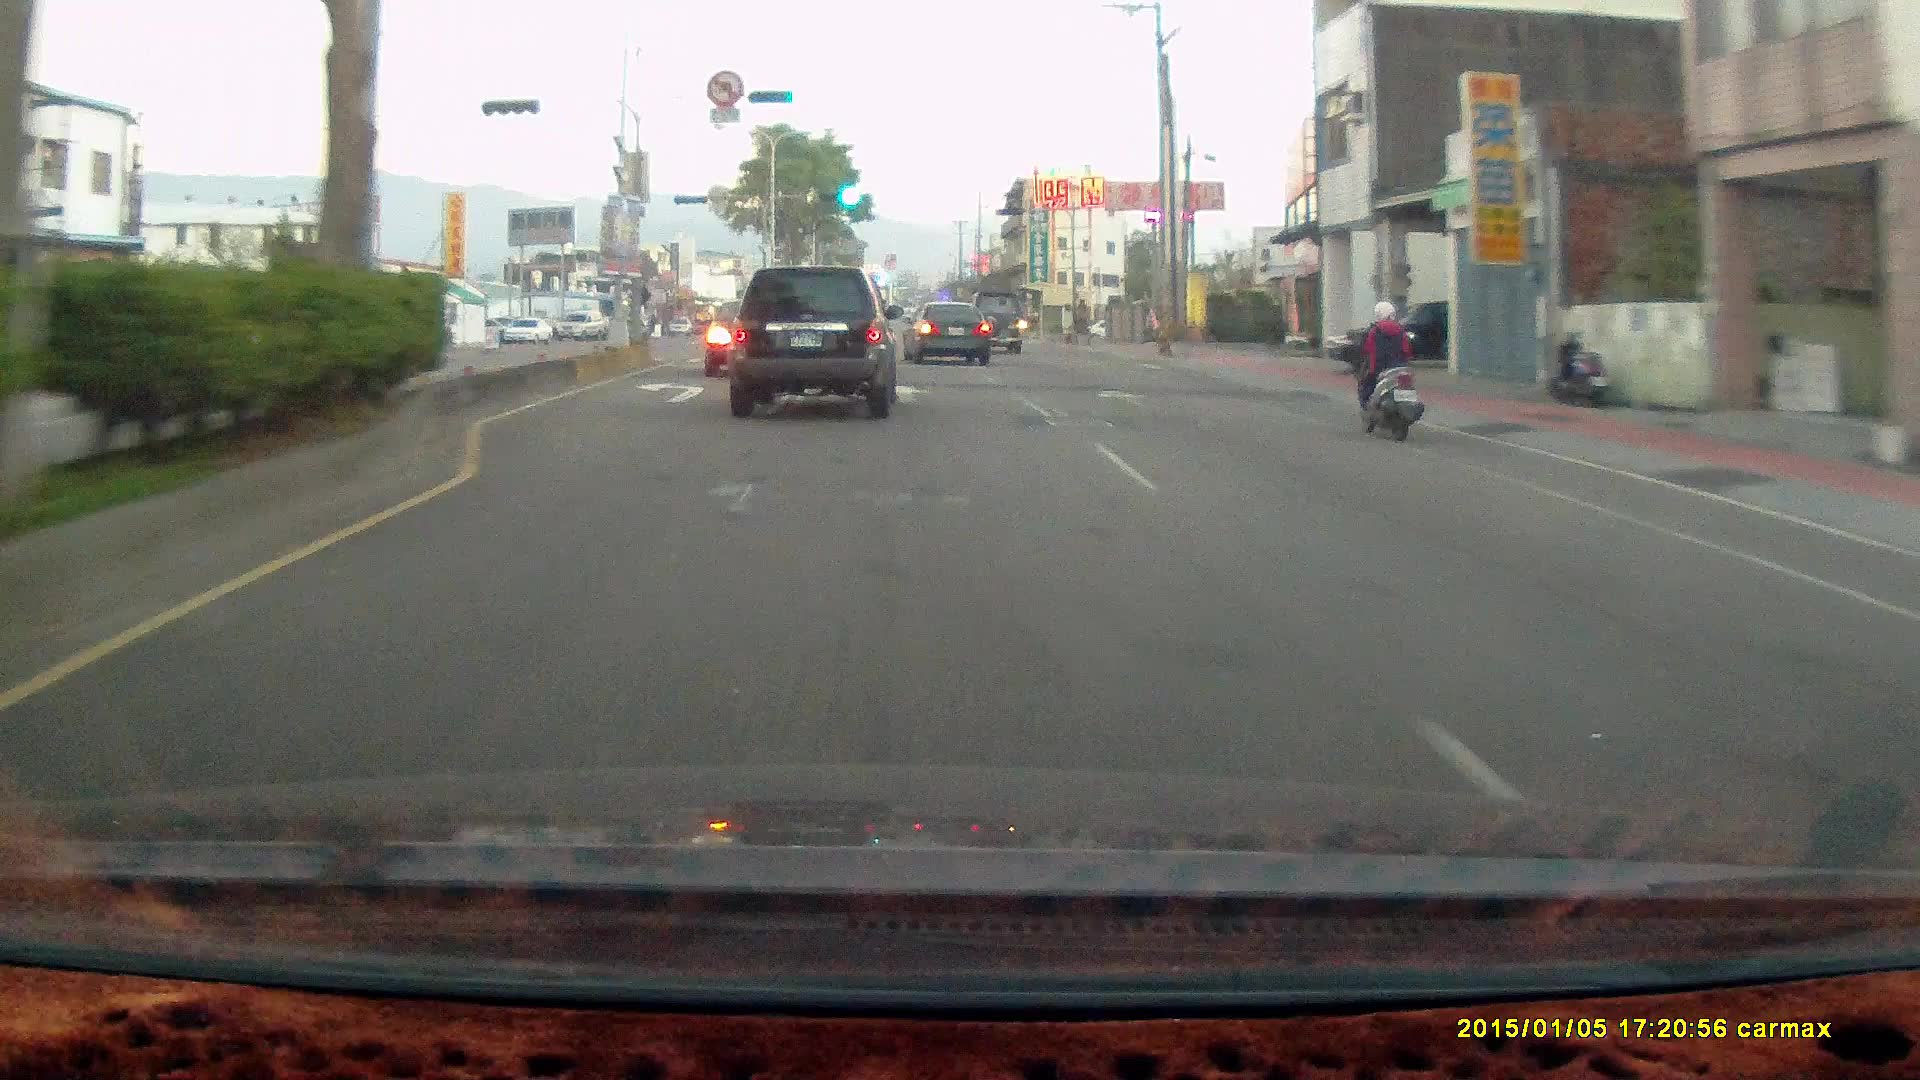rider: (1338, 292, 1437, 449), (1348, 295, 1423, 439)
vehicle: (721, 259, 898, 422), (725, 265, 901, 416), (1324, 297, 1516, 367), (1329, 295, 1460, 367), (704, 297, 809, 382), (702, 297, 806, 377), (907, 300, 994, 367), (905, 300, 991, 364), (961, 289, 1024, 355), (966, 291, 1026, 358), (555, 310, 604, 340), (501, 315, 553, 343)
